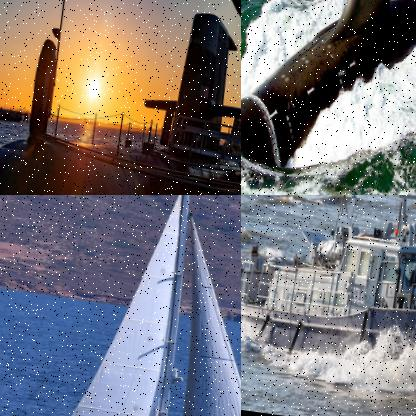Patrol Boat: (241, 195, 415, 400)
Sails Boat: (0, 195, 240, 415)
Submarine: (0, 0, 240, 194), (241, 0, 415, 194)
